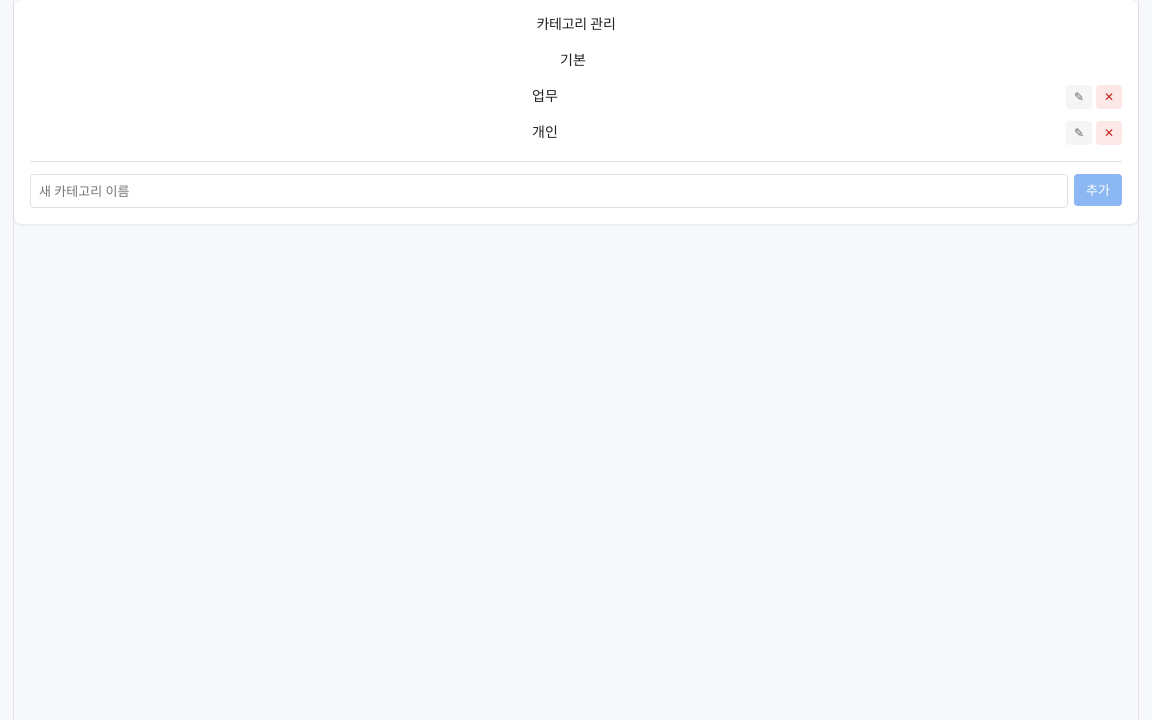
Test: CategoryManager › 삭제 버튼 클릭 시 확인 모달이 표시된다
Click the button named "업무 삭제": (1109, 96) [1096,84,1122,108]
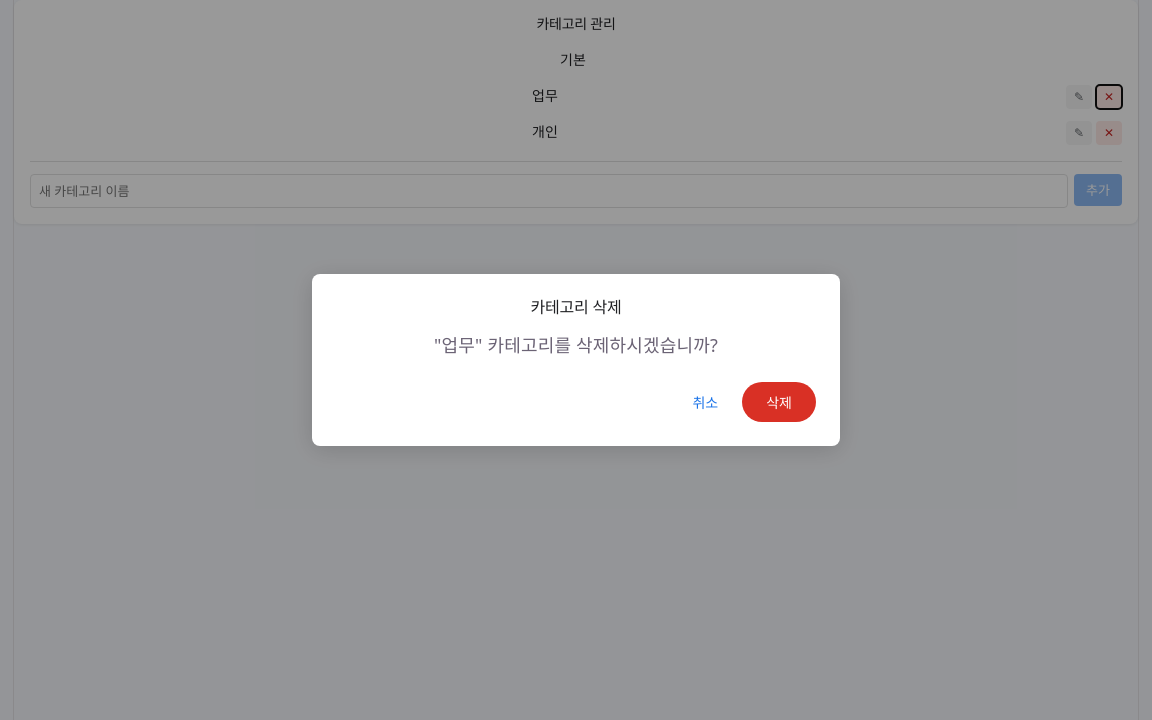
Now the text "\"업무\" 카테고리를 삭제하시겠습니까?" is shown, box [434,333,718,357]
Now the button "삭제" is shown, box [742,382,816,422]
